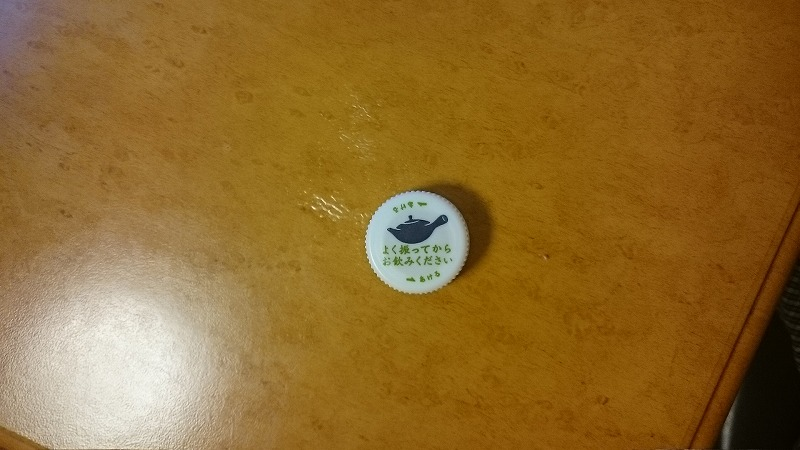A: (363, 181, 478, 301)
